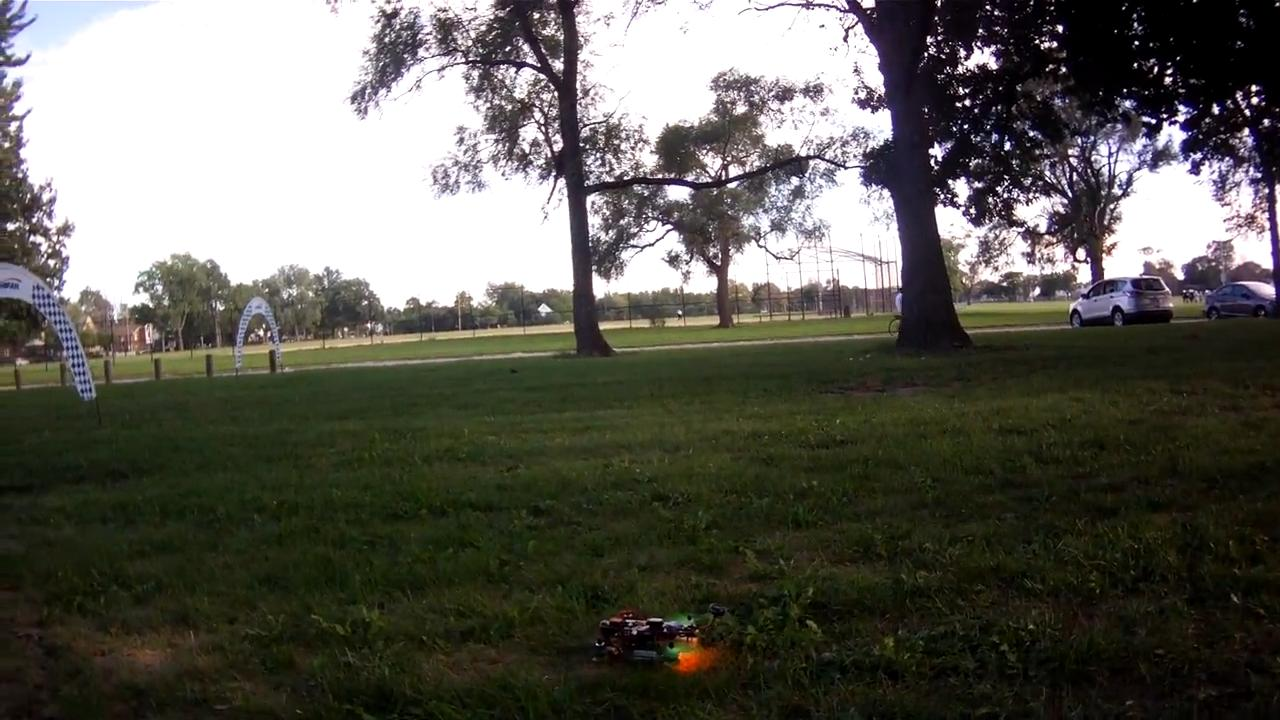gate: (233, 297, 287, 372)
